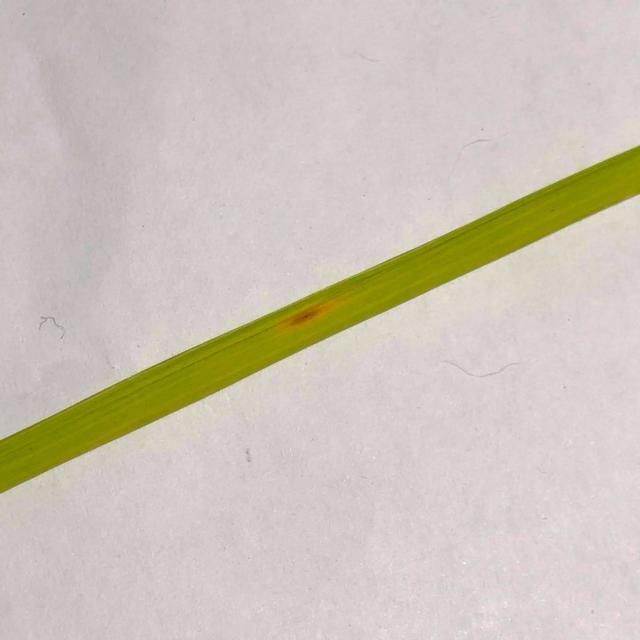brownspots: (278, 288, 344, 344)
